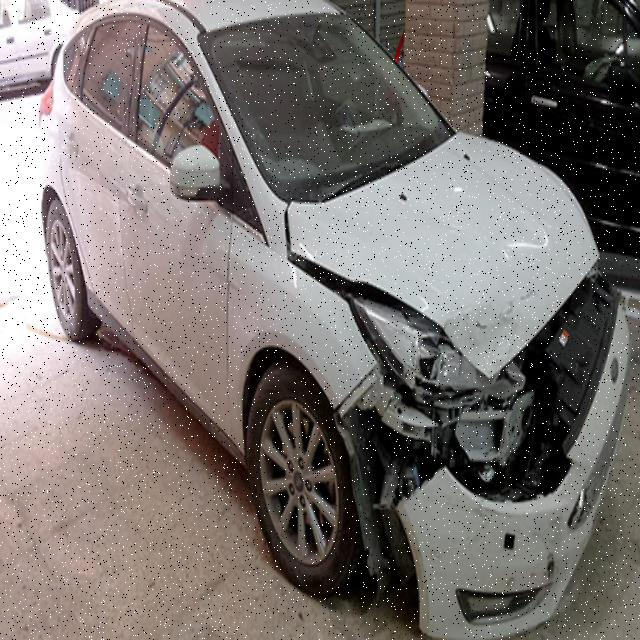damage: (289, 249, 630, 638)
